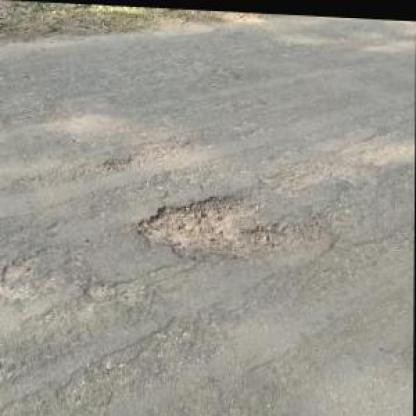pothole: (137, 184, 298, 263)
